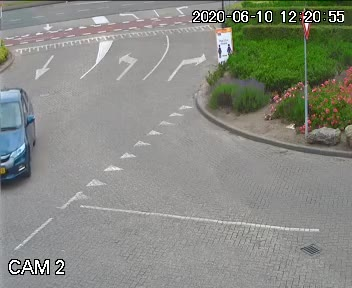car: (0, 82, 50, 189)
